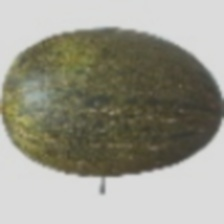honeydew: (10, 31, 199, 205)
